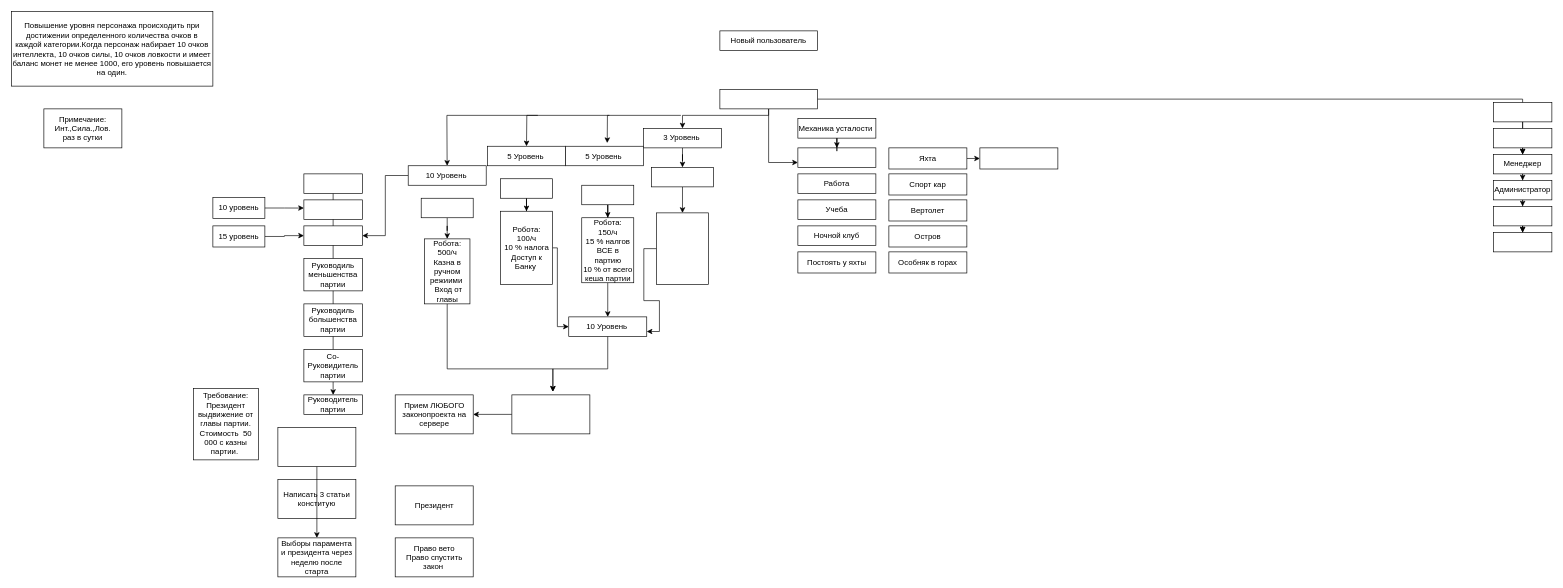
Some shapes in this 1563 by 588 pixel diagram are drawn without their labels. Each missing label, with the centre of its shape:
"Акивности" goes at pixel 768 99.
"Владелец" goes at pixel 1522 242.
"Коммунизм" goes at pixel 607 195.
"Либерализм" goes at pixel 526 188.
"Монархисты" goes at pixel 447 208.
"Национализм" goes at pixel 682 177.
"Обл. Депутат" goes at pixel 332 235.
"Парламент 50 человек" goes at pixel 550 414.
"Покаться на яхте" goes at pixel 1018 158.
"Прогулка" goes at pixel 836 157.
"Рабочий" goes at pixel 1522 112.
"Робота: 80/ч 1000 за каждого в партии" goes at pixel 682 248.
"Секретарь партии" goes at pixel 332 209.
"Со-владелец" goes at pixel 1522 216.
"Ст. Рабочий" goes at pixel 1522 138.
"Старт" goes at pixel 316 446.
"Член партии" goes at pixel 332 183.
